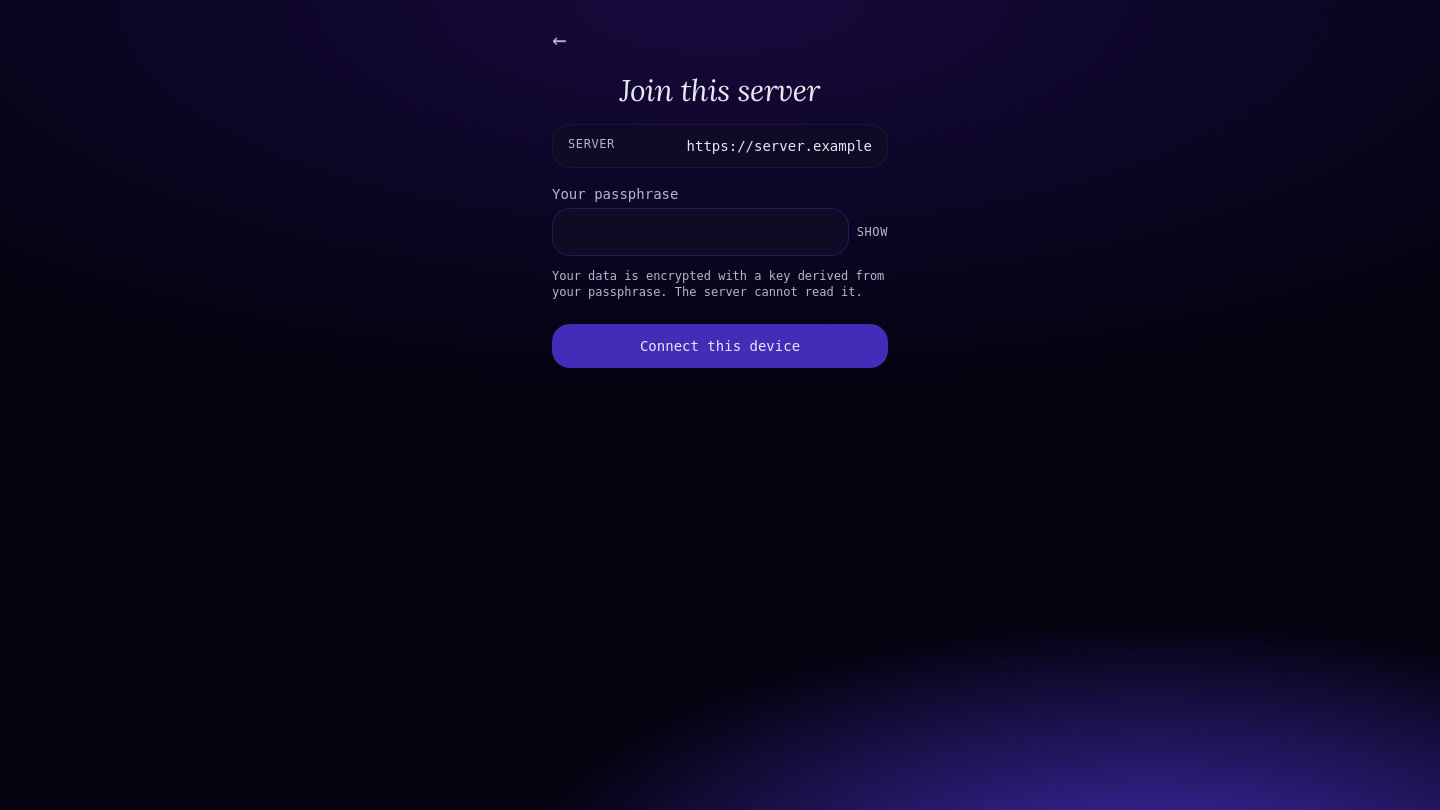
Test: InvitationConfirm — late-link username conflict enters rename mode (Defect A) › reveals the username field (pre-filled) on the first conflict, not a hidden error
expect the field labelled "Username" is not shown: met
Type "correct horse" into the password field labelled "Your passphrase".
click(700, 232); type("correct horse")  # box [552,208,849,256]
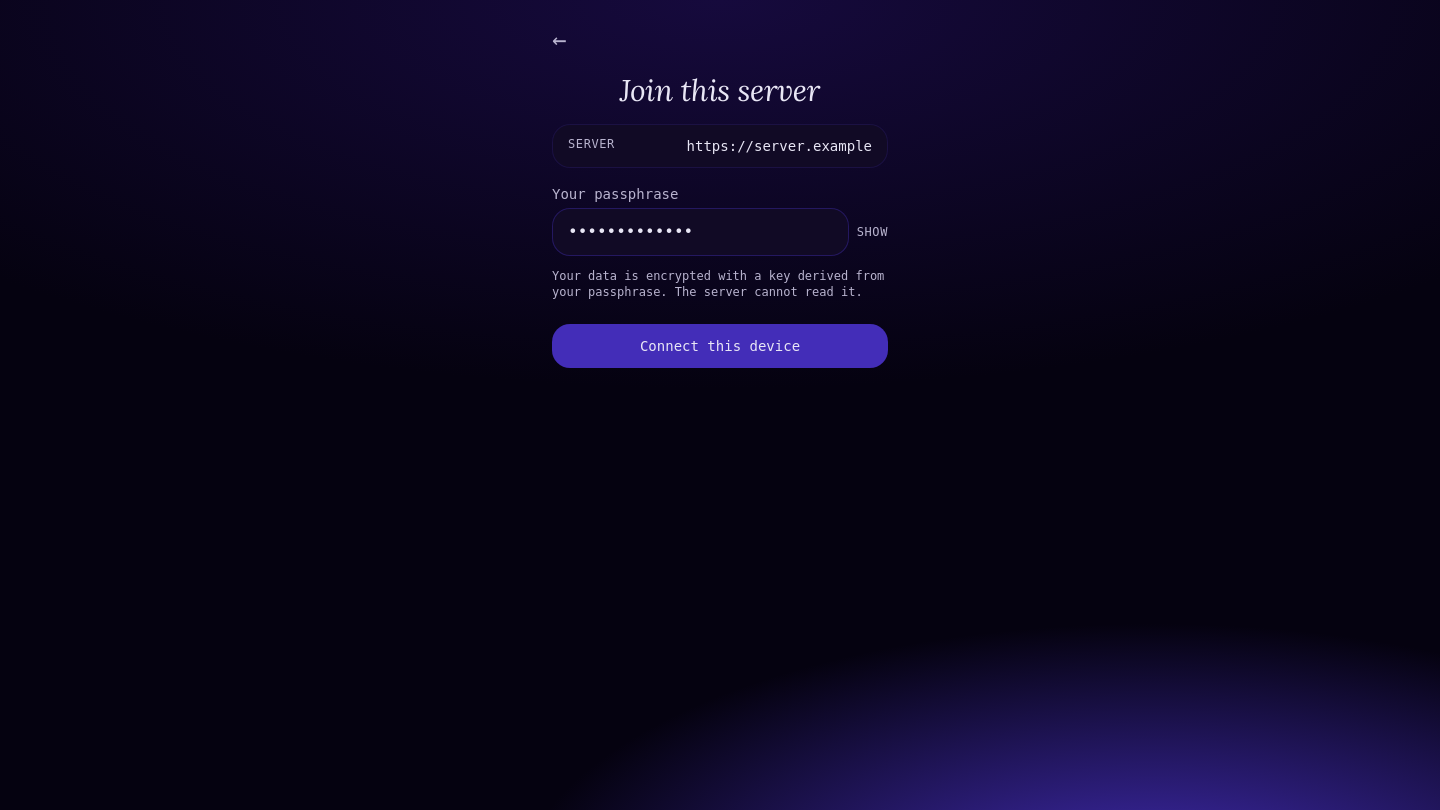
Click the button "Connect this device".
click(720, 346)  # box [552,324,888,368]
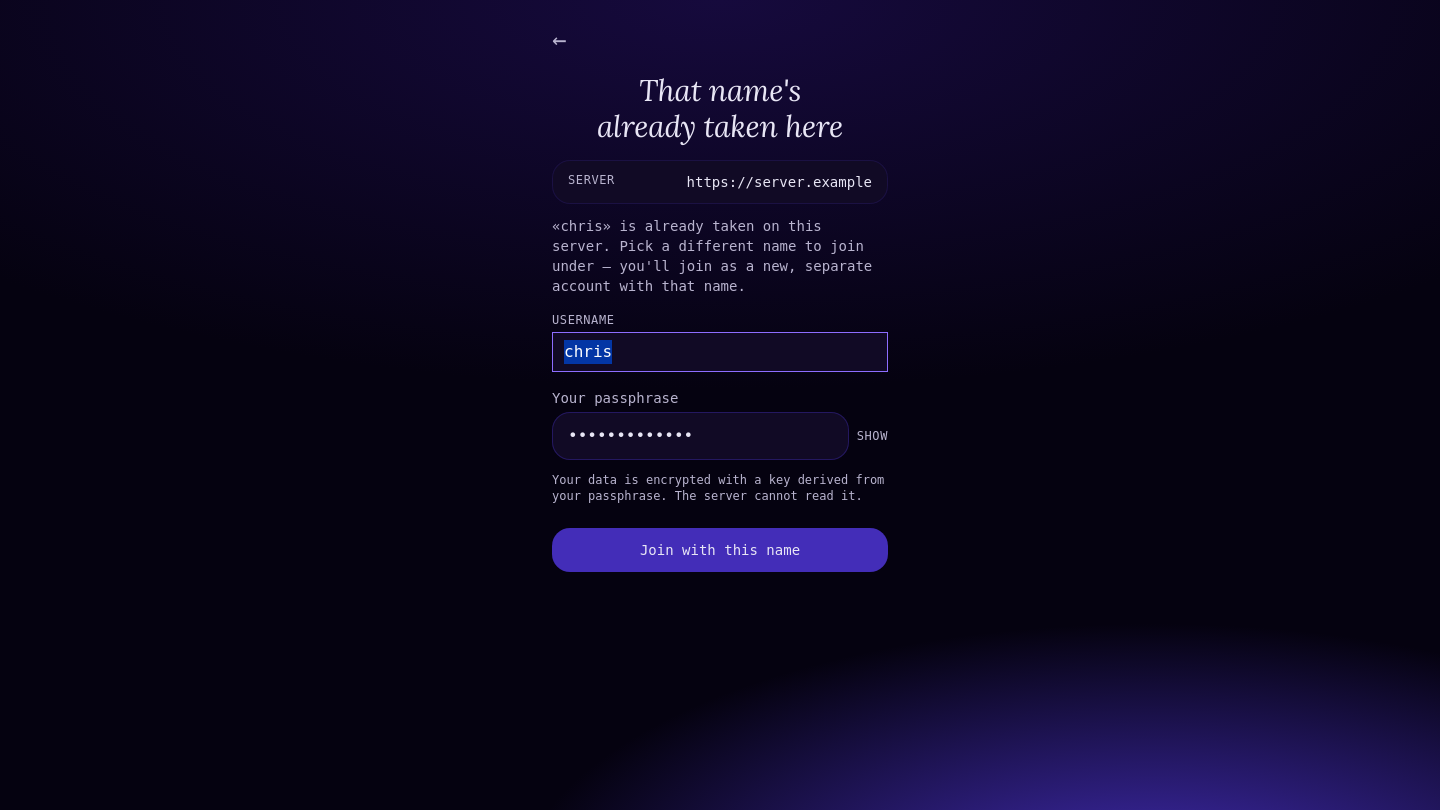
expect the heading "That name's already taken here" is shown: met, box [597,71,843,145]
expect the field labelled "Username" holds "chris": met, box [552,332,888,372]
expect the button "Join with this name" is shown: met, box [552,528,888,572]
